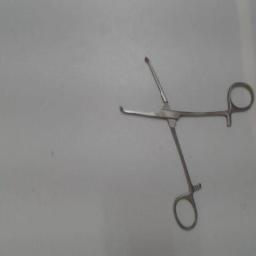Allis Tissue Forceps: (108, 44, 256, 236)
